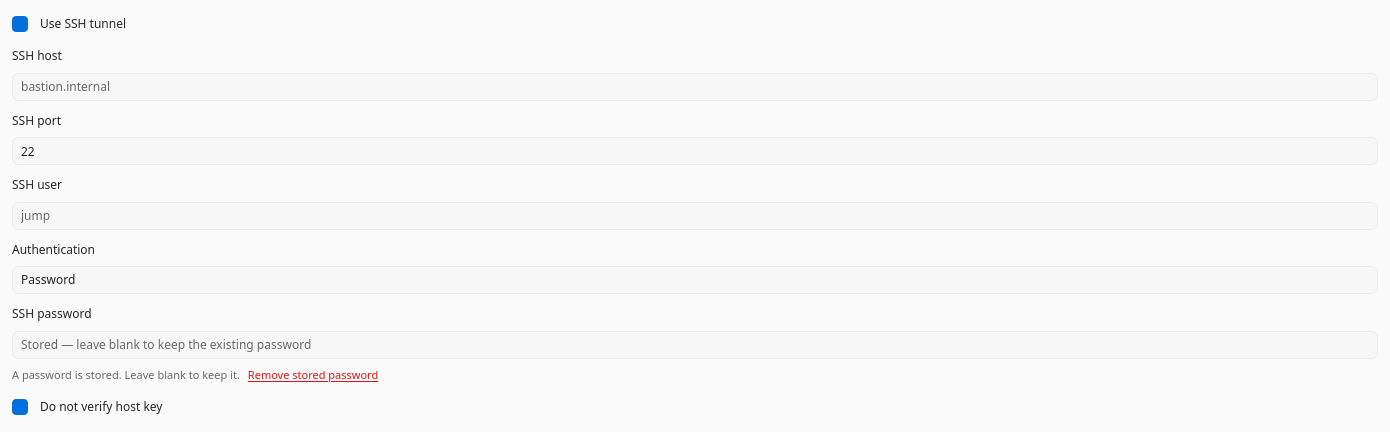
Test: ConnectionSshFields › removes a stored password on request and lets it be restored
Click the button "Remove stored password". click: (313, 375)
box: [248, 366, 378, 383]
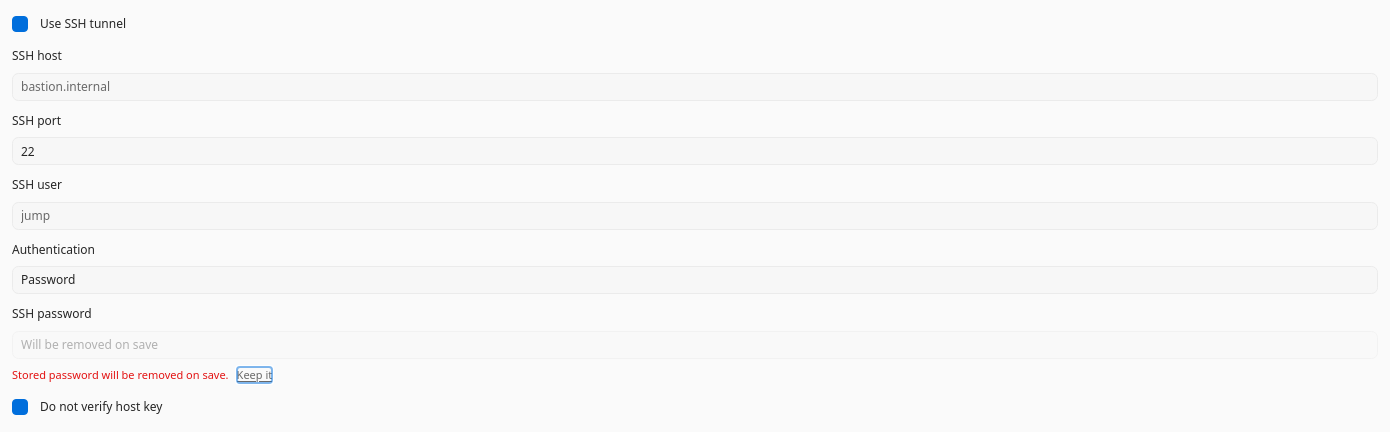
Expected: the password field named "SSH password" is disabled, [12, 330, 1378, 358]
Expected: the text "Stored password will be removed on save." is shown, [12, 366, 229, 383]
Click the button "Keep it". click: (254, 375)
box: [237, 366, 272, 383]
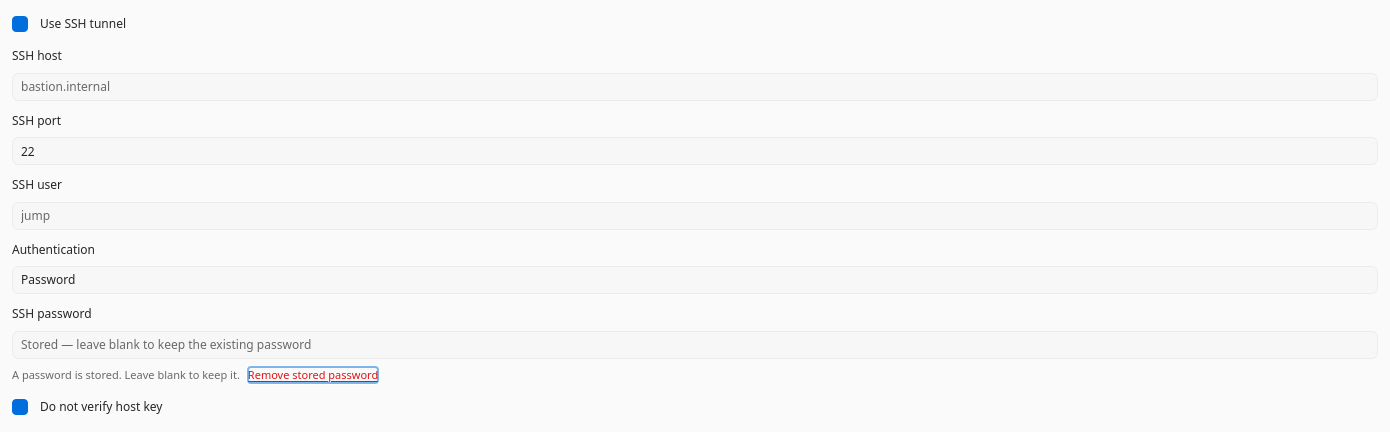
Expected: the password field named "SSH password" is enabled, [12, 330, 1378, 358]
